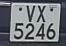2: (24, 22, 37, 42)
4: (35, 21, 47, 42)
5: (12, 22, 26, 42)
6: (46, 21, 57, 43)
V: (25, 6, 37, 24)
X: (37, 5, 47, 25)
